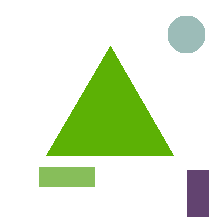circle: (168, 16, 204, 52)
rectangle: (39, 167, 94, 186), (187, 170, 208, 216)
triangle: (46, 46, 173, 155)
